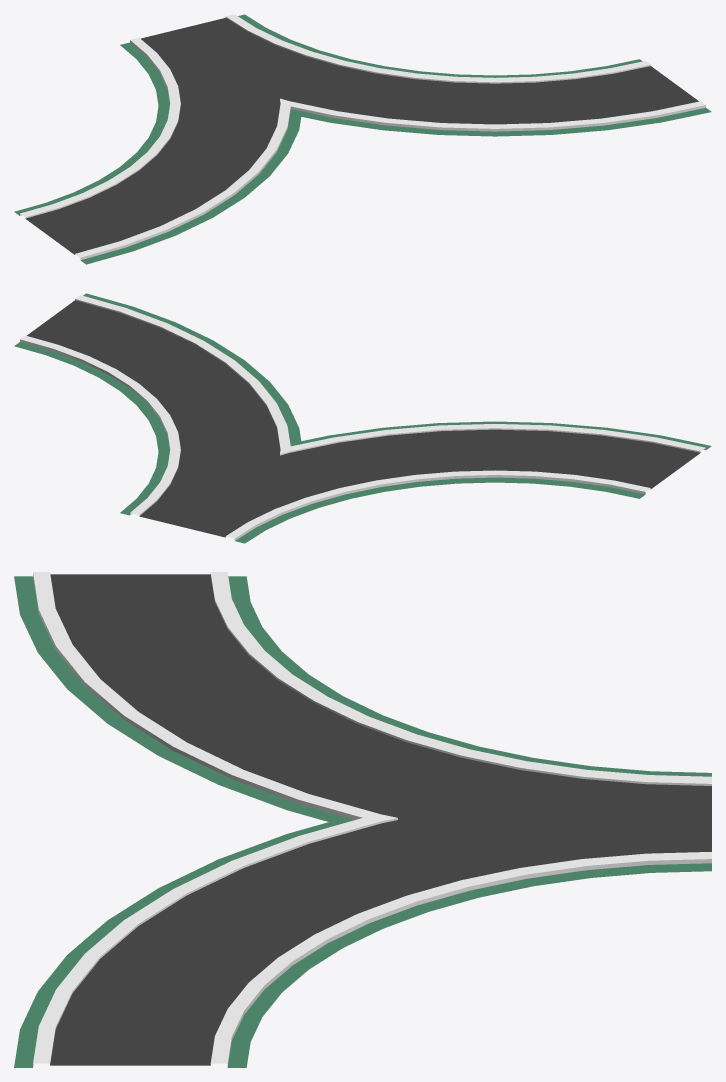
File: roadSplitRoundLarge.obj
3 views of the same model, one above another, from view 1: azimuth 30°, elevation 25°; view 2: azimuth 150°, elevation 25°; view 3: azimuth 270°, elevation 25° (orthographic). The views are drawn at different scales.
Visible parts, largest first — view 1: roadSplitRoundLarge; view 2: roadSplitRoundLarge; view 3: roadSplitRoundLarge.
Part boxes in pixels (x1,y1,x2,y2): roadSplitRoundLarge: (14,14,711,264); roadSplitRoundLarge: (14,293,711,543); roadSplitRoundLarge: (14,572,711,1067).
Size of the model in its own units: 5 by 0.02 by 3.
